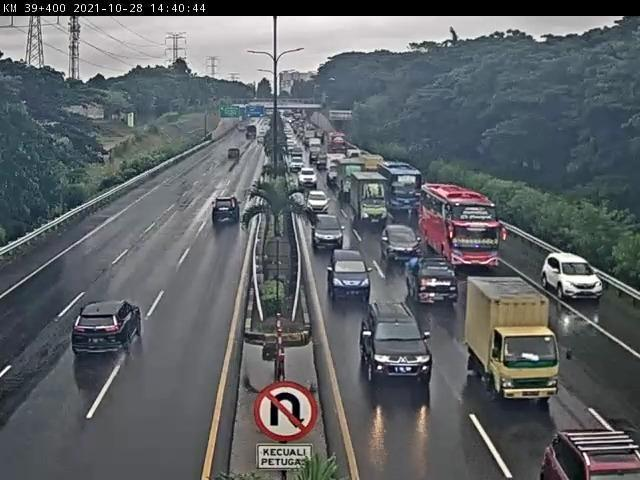bus: (421, 184, 503, 272), (375, 162, 421, 213)
car: (360, 301, 434, 386), (541, 253, 607, 306), (405, 256, 462, 307), (326, 248, 373, 303), (382, 225, 425, 265), (310, 211, 345, 248), (211, 196, 241, 223), (306, 190, 333, 217)
truck: (467, 274, 564, 405), (71, 300, 143, 358), (349, 172, 390, 226)
